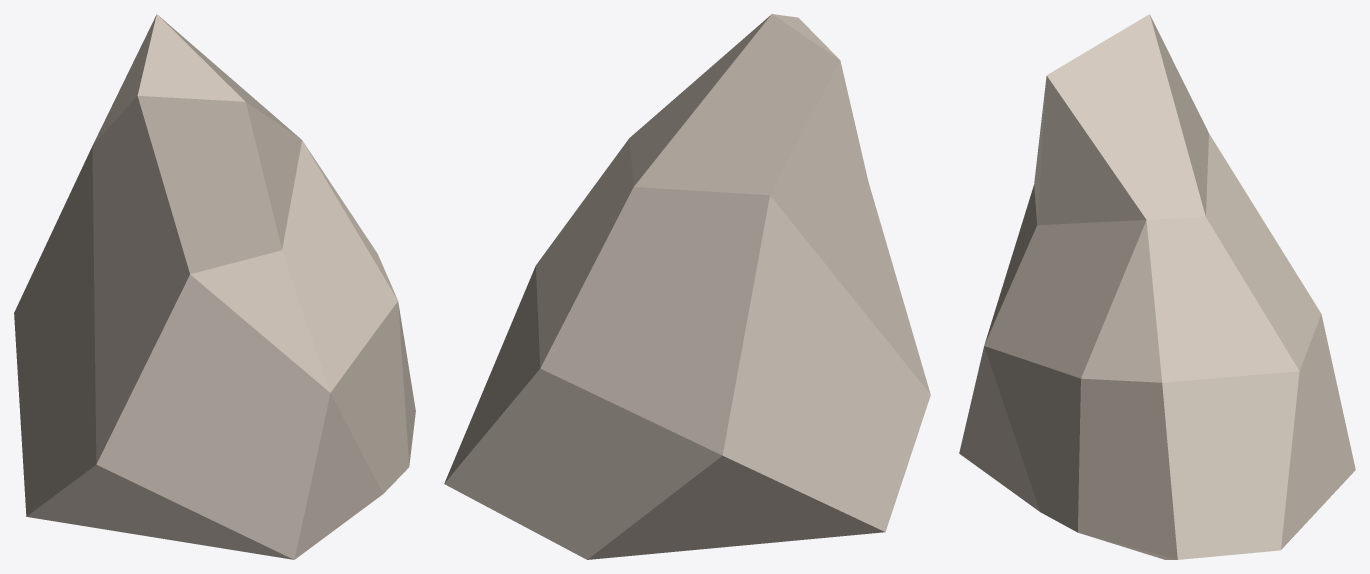
The model's file is Hshitou3.FBX.
The picture shows the model from 3 angles, left to right: view 1: azimuth 30°, elevation 25°; view 2: azimuth 150°, elevation 25°; view 3: azimuth 270°, elevation 25°; orthographic projection. The views are drawn at different scales.
Parts seen in each view (by area): view 1: 对象011; view 2: 对象011; view 3: 对象011.
Part boxes in pixels (x1=…): 对象011: x1=14, y1=14, x2=415, y2=559; 对象011: x1=444, y1=14, x2=930, y2=559; 对象011: x1=959, y1=14, x2=1355, y2=559.
Bounding box in the file's own units: 12.09 × 14.08 × 11.7.
